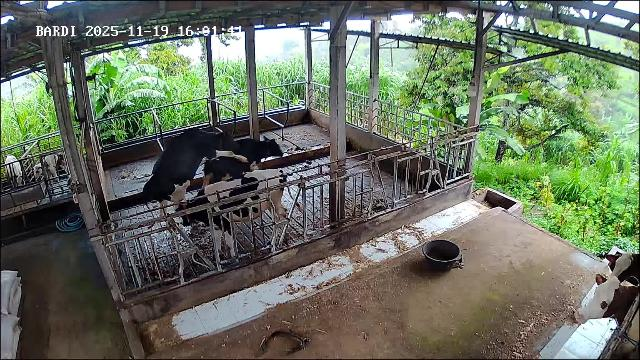mounting: (142, 128, 245, 254)
